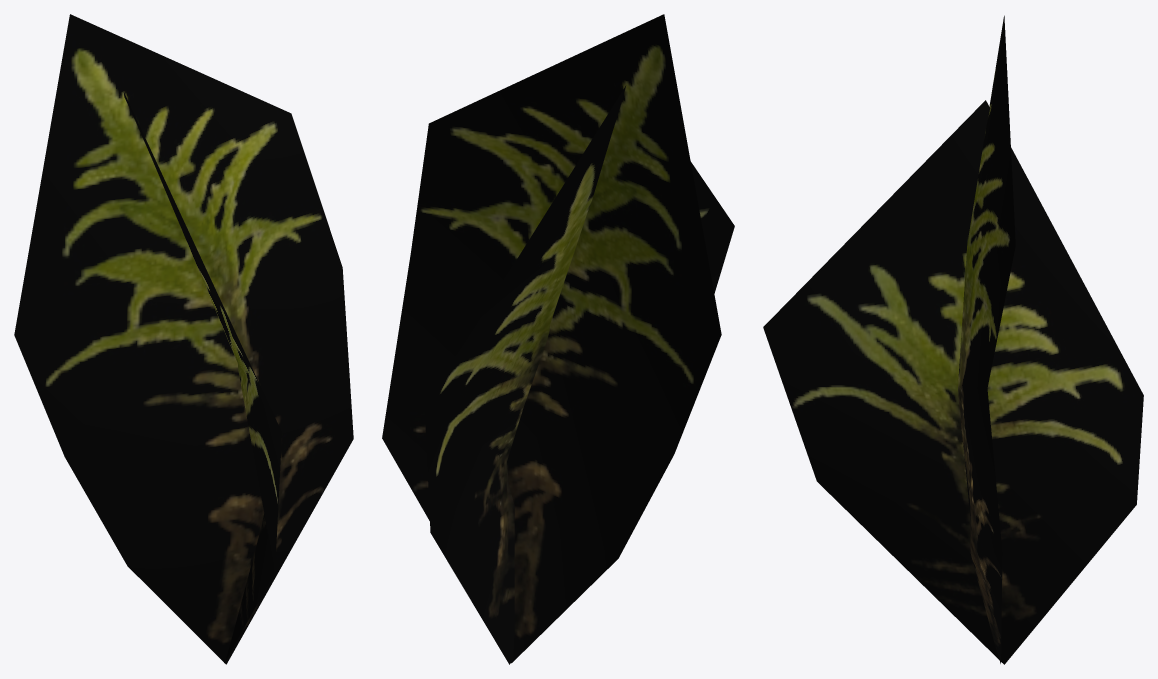
Rendered from Moss_05.fbx.
3 renders of one model, left to right at view 1: azimuth 30°, elevation 25°; view 2: azimuth 150°, elevation 25°; view 3: azimuth 270°, elevation 25°, orthographic. The views are drawn at different scales.
Visible parts, largest first — view 1: Moss_05; view 2: Moss_05; view 3: Moss_05.
Part boxes in pixels (x1,y1,x2,y2): Moss_05: (14, 14, 353, 664); Moss_05: (382, 14, 734, 664); Moss_05: (763, 15, 1143, 664).
Size of the model in its own units: 0.0413 by 0.08 by 0.0471.
Materials: 1 (1 with a texture image).
